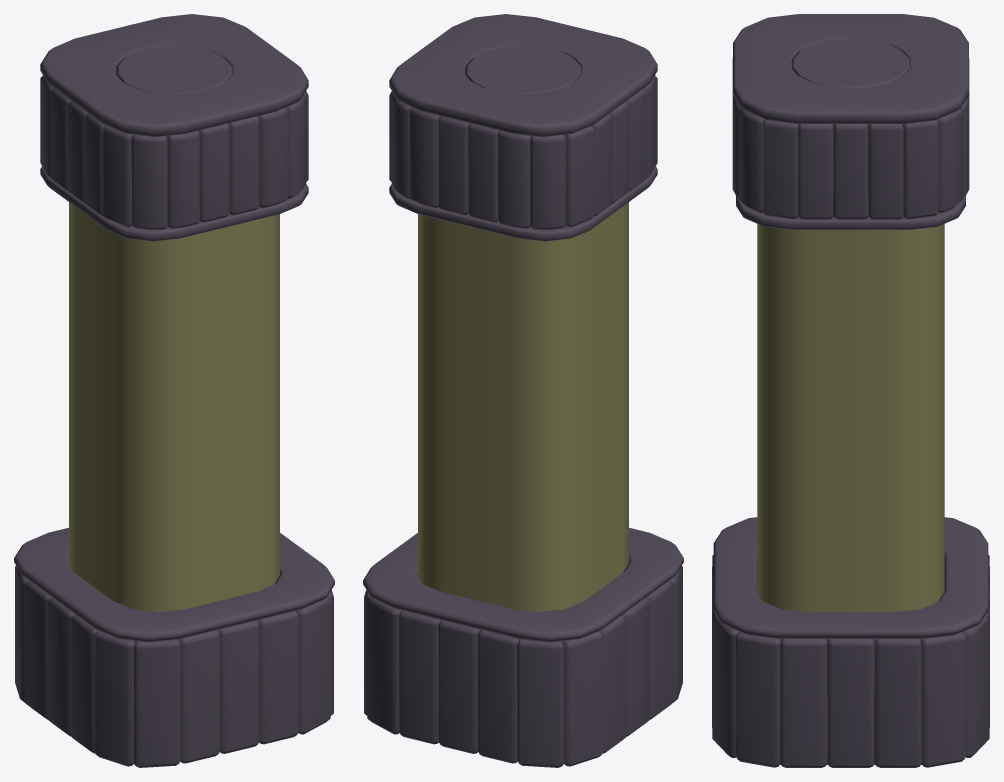
File: Env2_Pillar.fbx
3 renders of one model, left to right at view 1: azimuth 30°, elevation 25°; view 2: azimuth 150°, elevation 25°; view 3: azimuth 270°, elevation 25°, orthographic. The views are drawn at different scales.
Visible parts, largest first — view 1: Env2_Pillar; view 2: Env2_Pillar; view 3: Env2_Pillar.
Part boxes in pixels (left/top/right/bottom): Env2_Pillar: left=14, top=14, right=334, bottom=767; Env2_Pillar: left=363, top=14, right=683, bottom=767; Env2_Pillar: left=712, top=14, right=989, bottom=767.
Size of the model in its own units: 0.7722 by 0.7721 by 1.99.
